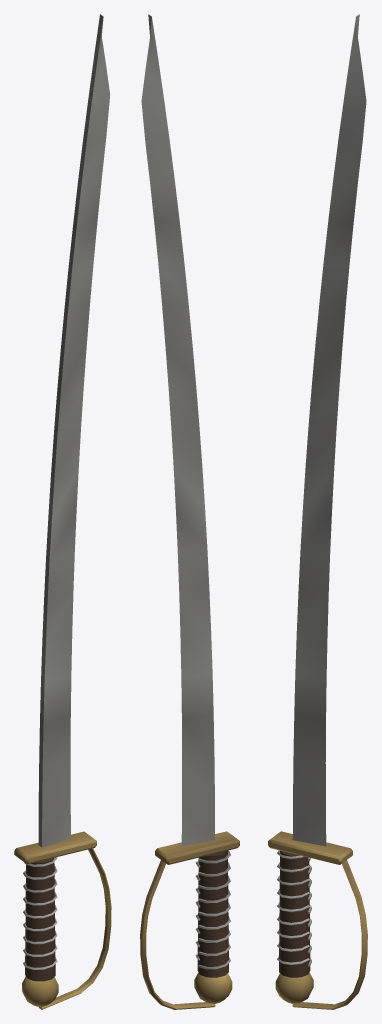
Rendered from silver-sabre.glb.
3 renders of one model, left to right at view 1: azimuth 30°, elevation 25°; view 2: azimuth 210°, elevation 25°; view 3: azimuth 330°, elevation 25°, orthographic. The views are drawn at different scales.
Visible parts, largest first — view 1: silver-sabre; view 2: silver-sabre; view 3: silver-sabre.
Boxes of the visible parts, bbox=[...] form: silver-sabre: bbox=[14, 14, 111, 1009]; silver-sabre: bbox=[140, 14, 239, 1009]; silver-sabre: bbox=[268, 14, 367, 1009].
Bounding box in the file's own units: 0.0883 × 0.9117 × 0.0297.
